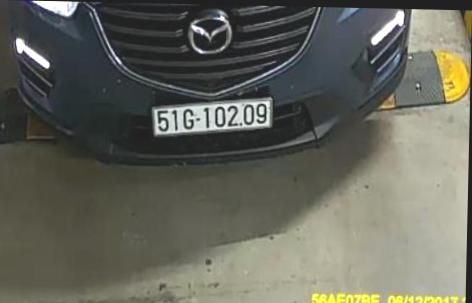License_Plate: (148, 88, 280, 142)
